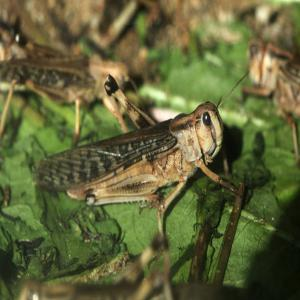locust: (30, 80, 237, 224)
